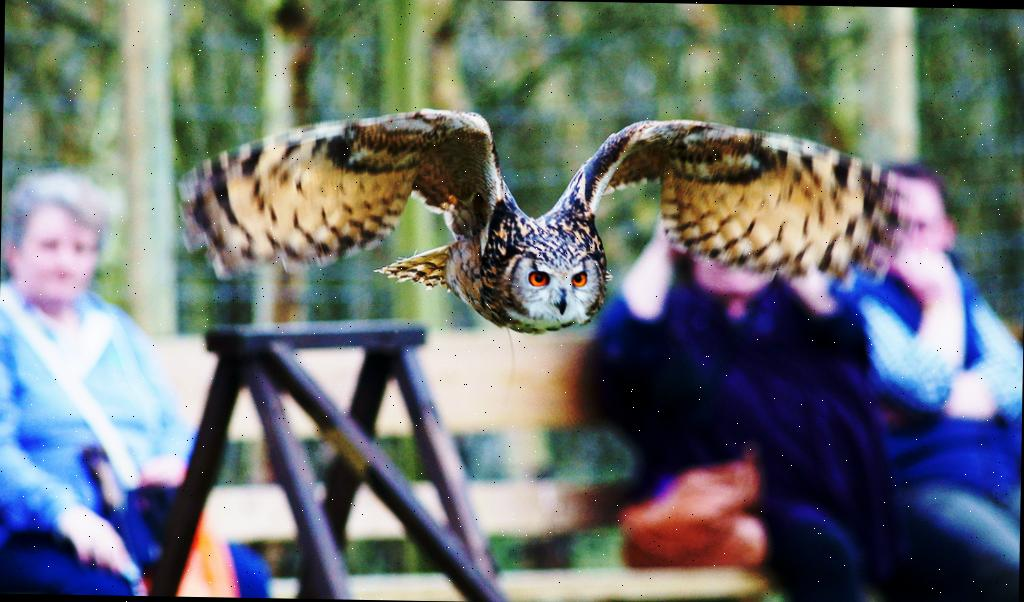Owl: (171, 99, 913, 342)
